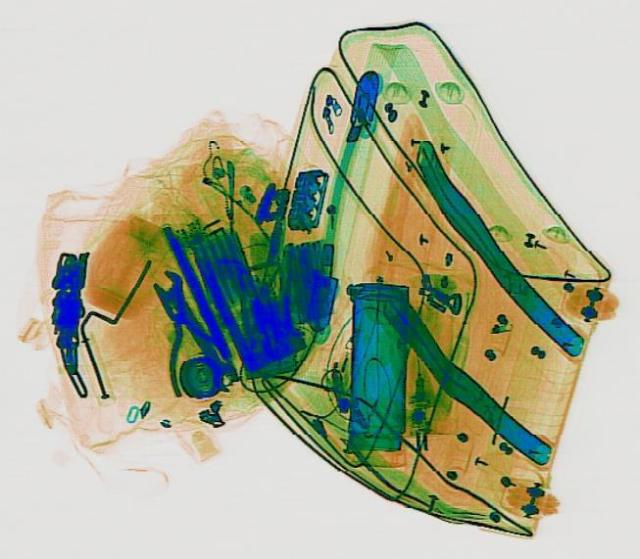Pliers: (136, 287, 240, 397)
Wrench: (140, 264, 244, 389)
